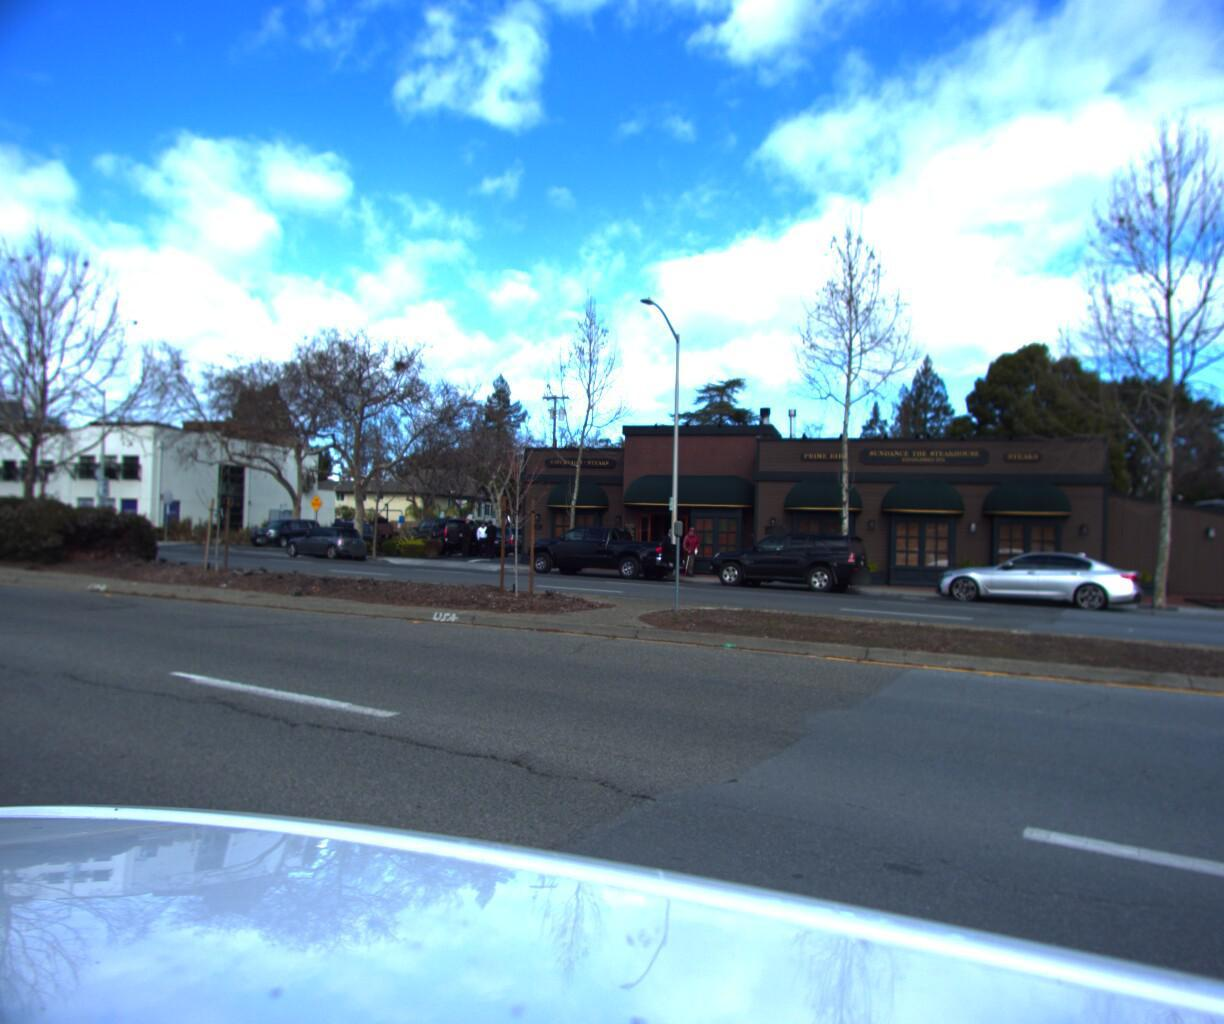car: (926, 543, 1147, 611), (699, 528, 876, 594), (518, 524, 688, 581), (263, 522, 378, 563), (244, 522, 324, 551)
